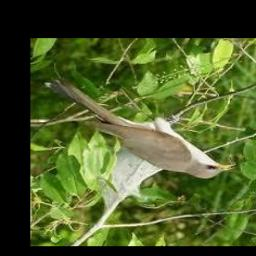Cuckoo: (51, 76, 238, 179)
